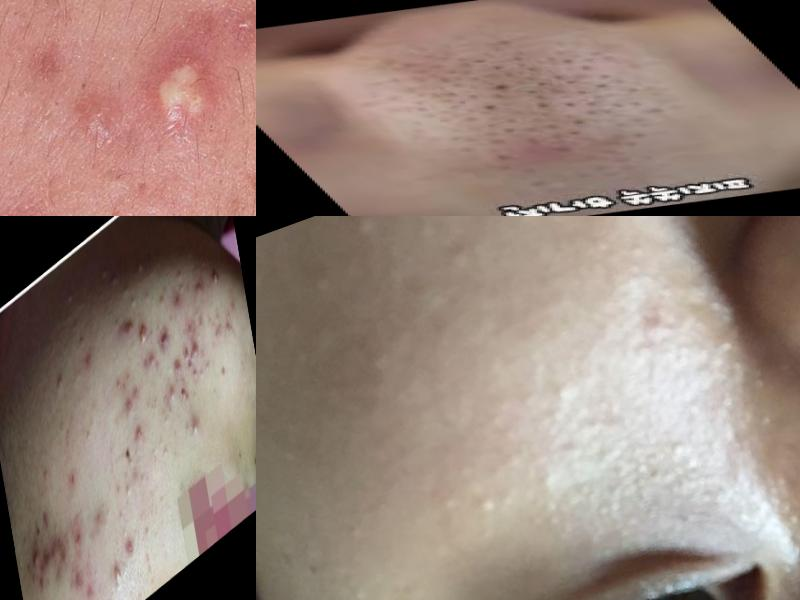acne_scars: (34, 526, 69, 579)
blackhead: (455, 78, 565, 118), (543, 79, 658, 117), (519, 51, 629, 90), (518, 115, 628, 154), (398, 87, 495, 123), (457, 53, 547, 84), (100, 151, 149, 206)
milium: (515, 432, 700, 557), (659, 298, 785, 443), (715, 426, 800, 600), (401, 454, 505, 551), (281, 558, 401, 600)
papular: (119, 309, 141, 351), (68, 523, 88, 566), (117, 389, 138, 423), (157, 320, 174, 361), (72, 562, 90, 600), (130, 418, 150, 451), (187, 327, 203, 360), (192, 272, 208, 304), (84, 345, 100, 376), (214, 319, 229, 350), (157, 285, 172, 315), (172, 285, 186, 316), (146, 348, 160, 377), (173, 345, 183, 377)
purulent: (108, 548, 128, 598), (188, 406, 208, 446), (135, 317, 152, 351), (210, 262, 224, 292)
sebo-crystan-conglo: (121, 32, 232, 145)
whitehead: (354, 333, 418, 380), (429, 238, 486, 286), (300, 264, 342, 302), (158, 373, 181, 428), (347, 217, 383, 249), (71, 317, 90, 356), (78, 416, 99, 451), (156, 427, 173, 470), (192, 356, 214, 389), (52, 358, 69, 400), (139, 509, 156, 550), (101, 502, 116, 537), (223, 308, 237, 343), (175, 262, 187, 295), (123, 477, 137, 505), (111, 268, 123, 296), (211, 304, 223, 330), (97, 262, 109, 287), (121, 280, 132, 306), (121, 518, 130, 544), (126, 297, 139, 314), (136, 256, 145, 277)
